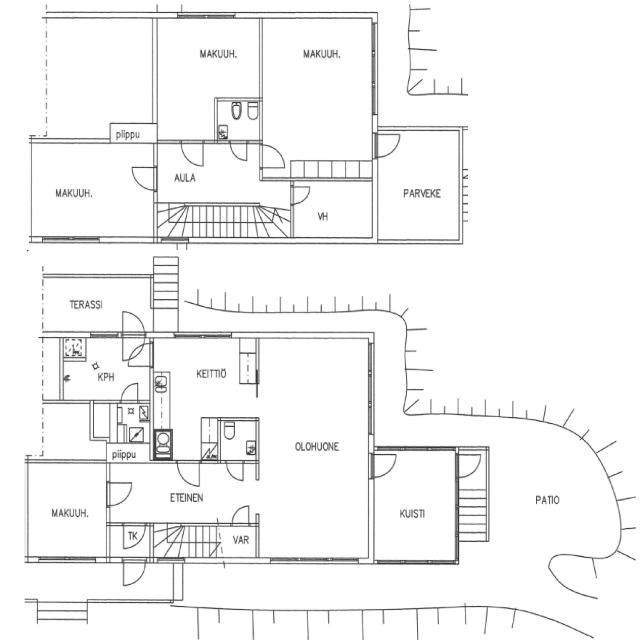door: (119, 308, 148, 338), (373, 130, 402, 160), (370, 449, 399, 479), (455, 449, 483, 480), (129, 163, 158, 192), (259, 141, 288, 170), (175, 458, 202, 488), (179, 138, 206, 168), (121, 556, 147, 587), (106, 479, 134, 507), (120, 522, 148, 550), (289, 183, 313, 206), (388, 307, 411, 331), (228, 138, 250, 163), (118, 381, 142, 403), (230, 502, 252, 526), (224, 459, 246, 482)
window: (366, 19, 382, 115), (400, 556, 430, 567)
zone: (256, 336, 372, 568), (260, 13, 376, 178), (45, 15, 156, 138), (29, 142, 155, 240), (371, 446, 458, 563), (154, 16, 262, 109), (374, 128, 462, 242), (151, 336, 257, 420), (25, 460, 109, 560), (154, 141, 261, 207), (42, 274, 152, 332), (59, 336, 148, 402), (291, 182, 374, 240), (349, 608, 418, 639), (215, 98, 261, 141), (253, 609, 311, 640), (219, 417, 259, 461), (113, 401, 150, 444), (118, 522, 148, 550)
